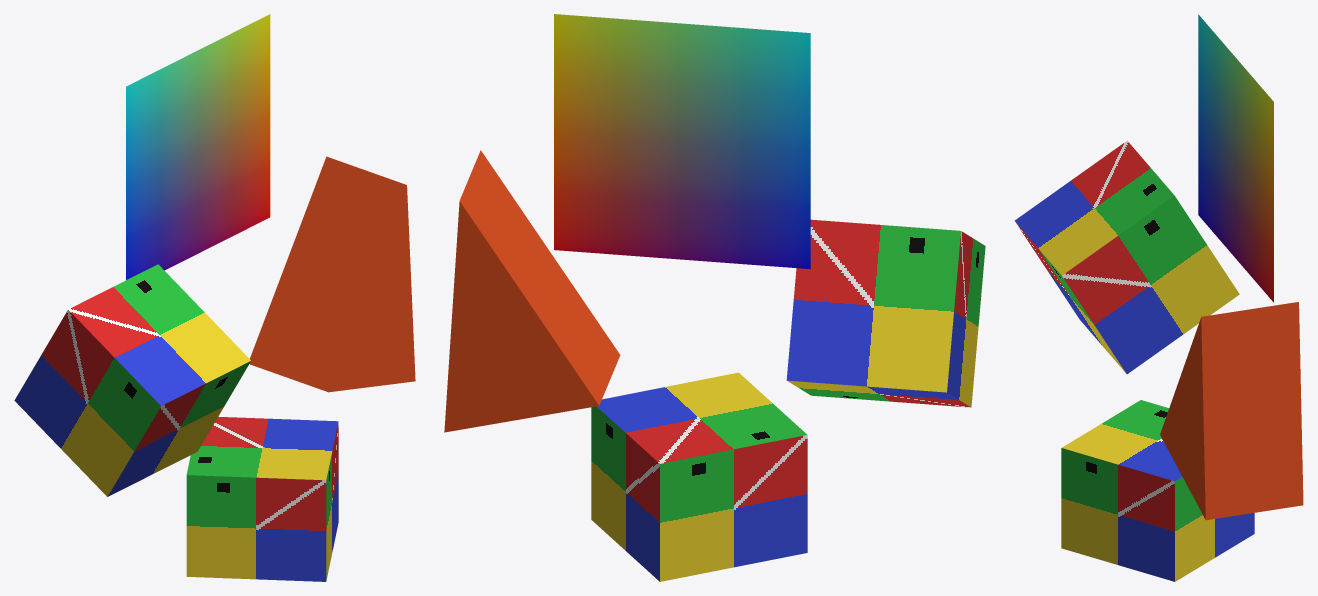
3 views of the same model, side by side, from view 1: azimuth 30°, elevation 25°; view 2: azimuth 150°, elevation 25°; view 3: azimuth 270°, elevation 25° (orthographic). The views are drawn at different scales.
Parts seen in each view (by area): view 1: box_node, panel_node, wedge_node, mirrored_box; view 2: panel_node, mirrored_box, box_node, wedge_node; view 3: box_node, wedge_node, mirrored_box, panel_node.
Boxes of the visible parts, x1,y1,x2,y2 form: box_node: (14,264,250,496); panel_node: (126,14,270,279); wedge_node: (249,156,415,392); mirrored_box: (186,416,338,581); panel_node: (554,14,810,269); mirrored_box: (591,372,807,581); box_node: (786,219,985,407); wedge_node: (444,150,620,432); box_node: (1014,140,1239,374); wedge_node: (1160,302,1303,520); mirrored_box: (1061,400,1254,581); panel_node: (1198,14,1273,302).
Size of the model in its own units: 0.0336 by 0.0375 by 0.0208.
Materials: 3 (1 with a texture image).
